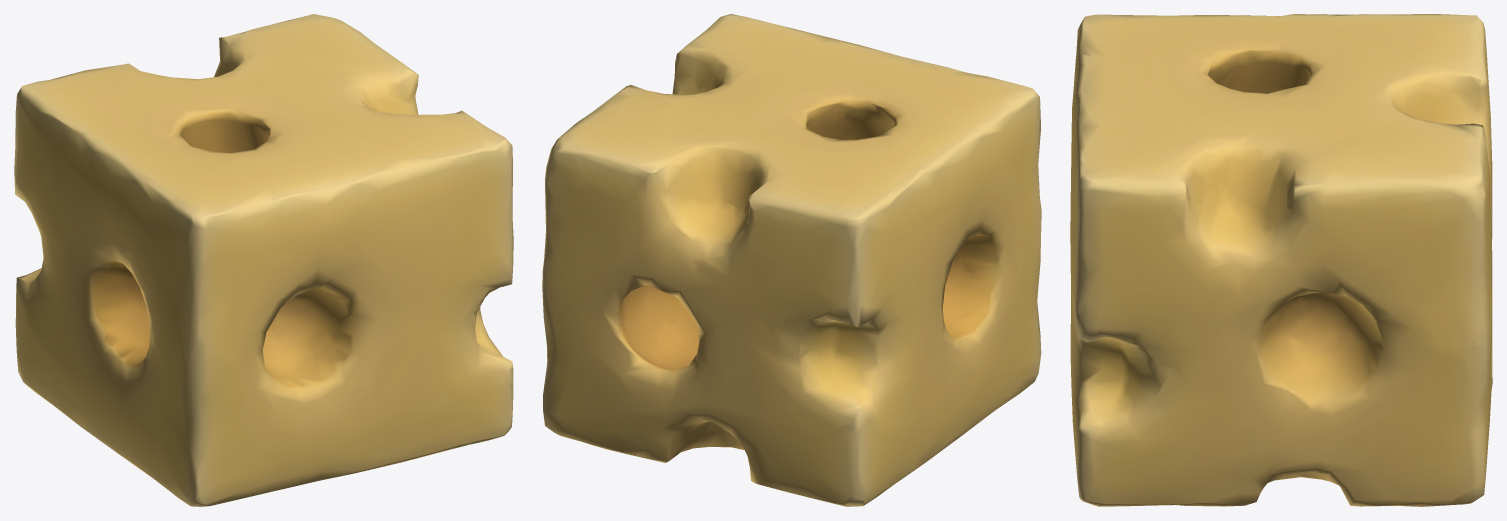
Rendered from cheese_cube.fbx.
3 renders of one model, left to right at view 1: azimuth 30°, elevation 25°; view 2: azimuth 150°, elevation 25°; view 3: azimuth 270°, elevation 25°, orthographic. The views are drawn at different scales.
Parts seen in each view (by area): view 1: tripo_node_2c97d494; view 2: tripo_node_2c97d494; view 3: tripo_node_2c97d494.
Part boxes in pixels (x1,y1,x2,y2): tripo_node_2c97d494: [14, 14, 513, 506]; tripo_node_2c97d494: [542, 14, 1041, 506]; tripo_node_2c97d494: [1070, 14, 1492, 506].
Bounding box in the file's own units: 0.9996 × 0.8641 × 1.
1 material, 1 textured.
